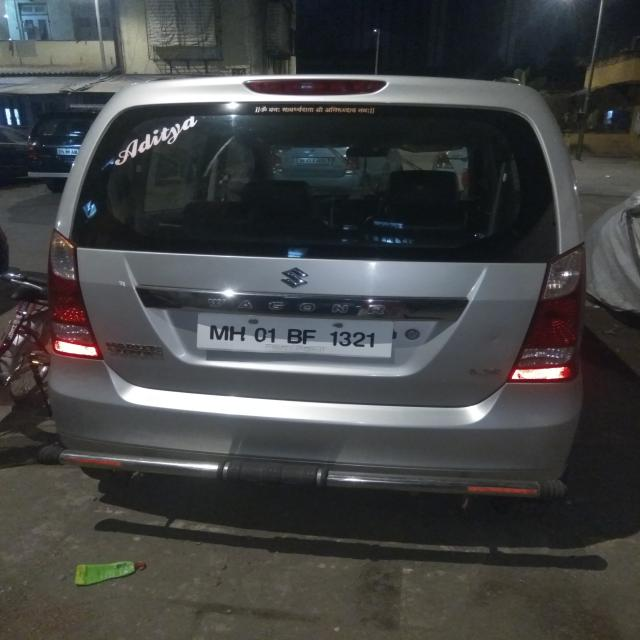Number-Plate: (196, 312, 392, 358)
